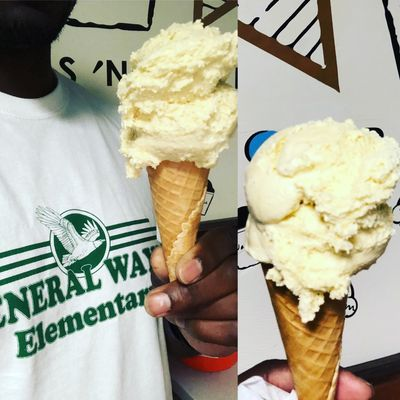pizza: (238, 359, 375, 400)
